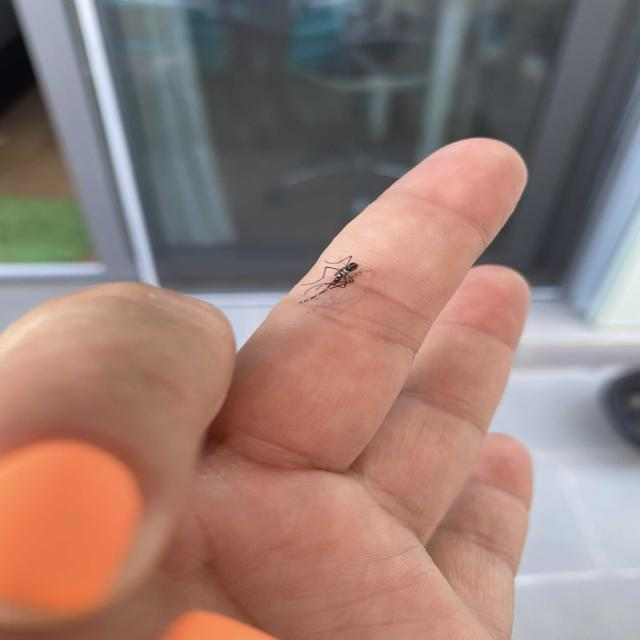albopictus: (296, 254, 366, 305)
